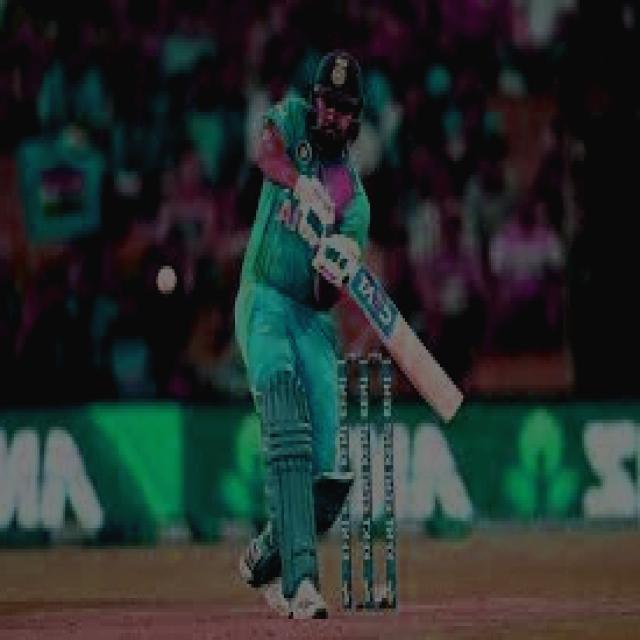toe: (446, 386, 468, 422)
